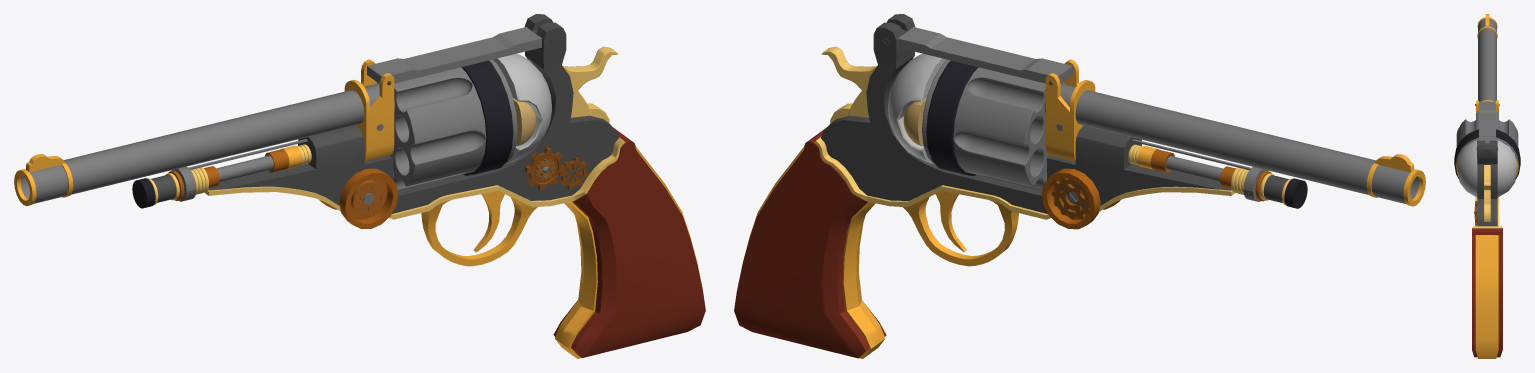
File: revolver.fbx
3 views of the same model, side by side, from view 1: azimuth 30°, elevation 25°; view 2: azimuth 150°, elevation 25°; view 3: azimuth 270°, elevation 25° (orthographic). The views are drawn at different scales.
Visible parts, largest first — view 1: rev_korpus, rev_bar, rev_kurok; view 2: rev_korpus, rev_bar, rev_kurok; view 3: rev_korpus, rev_bar, rev_kurok.
Boxes of the visible parts, bbox=[...] form: rev_korpus: bbox=[14, 14, 705, 358]; rev_bar: bbox=[375, 59, 517, 189]; rev_kurok: bbox=[563, 46, 617, 123]; rev_korpus: bbox=[734, 14, 1425, 358]; rev_bar: bbox=[922, 59, 1064, 190]; rev_kurok: bbox=[822, 46, 876, 123]; rev_korpus: bbox=[1456, 14, 1518, 358]; rev_bar: bbox=[1454, 112, 1520, 179]; rev_kurok: bbox=[1484, 165, 1490, 221].
Size of the model in its own units: 424 by 205 by 67.12.
